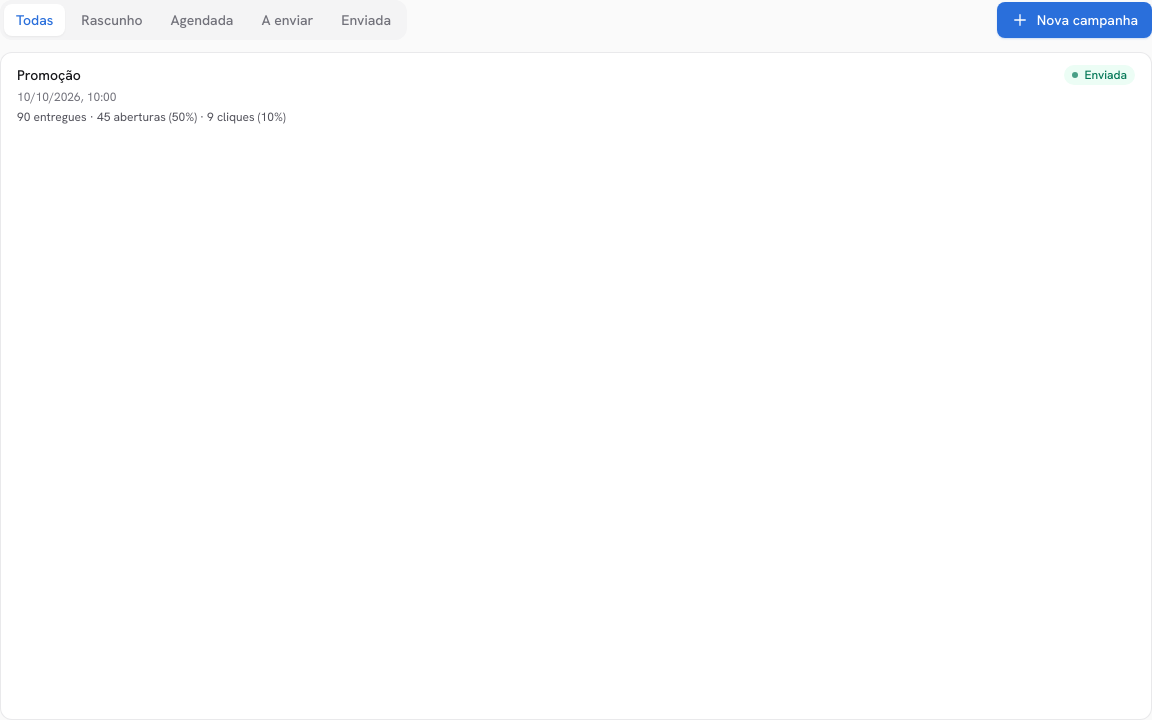
it: Campanhas — lista › «Nova campanha» abre o assistente
This screenshot has width=1152, height=720.
What coordinates should you click on to do the following:
click the button "Nova campanha"
I would click on:
 (1074, 20)
Its box is [997,2,1151,38].
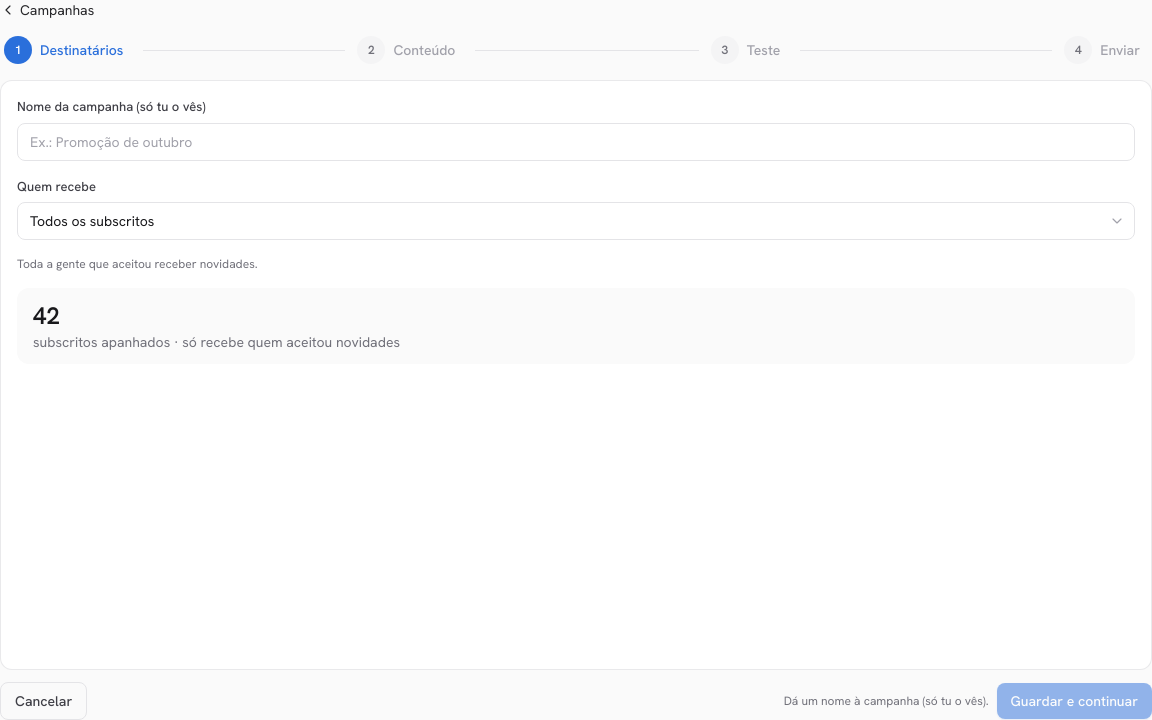
Result: the element with test id "campaign-wizard" is shown
